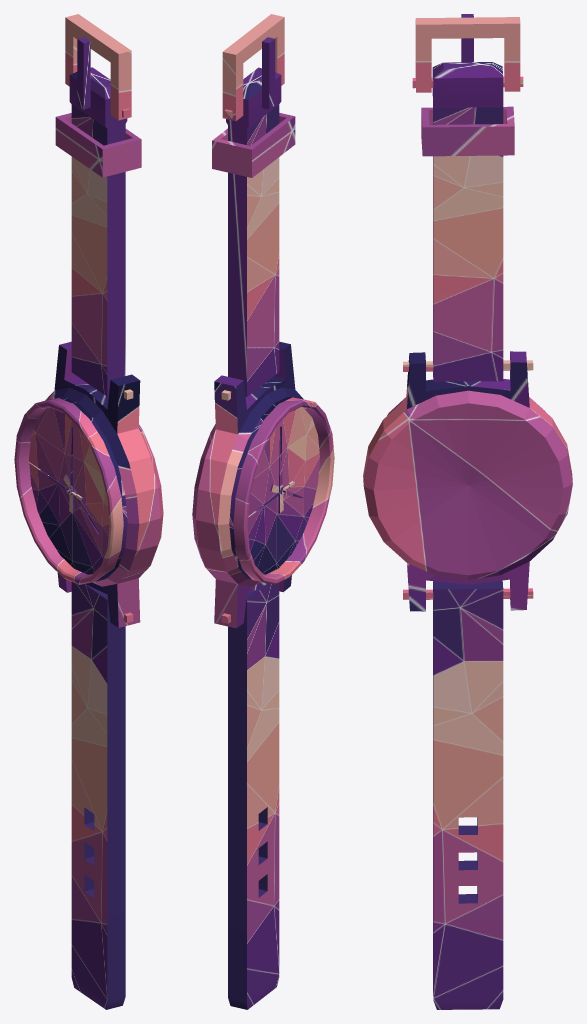
File: watch.glb
3 renders of one model, left to right at view 1: azimuth 30°, elevation 25°; view 2: azimuth 150°, elevation 25°; view 3: azimuth 270°, elevation 25°, orthographic. The views are drawn at different scales.
Visible parts, largest first — view 1: Wrist Watch; view 2: Wrist Watch; view 3: Wrist Watch.
Part boxes in pixels (x1,y1,x2,y2): Wrist Watch: [14, 14, 163, 1009]; Wrist Watch: [192, 14, 334, 1009]; Wrist Watch: [363, 14, 572, 1009].
Size of the model in its own units: 0.00066 by 0.0103 by 0.00199.
1 material, 1 textured.
